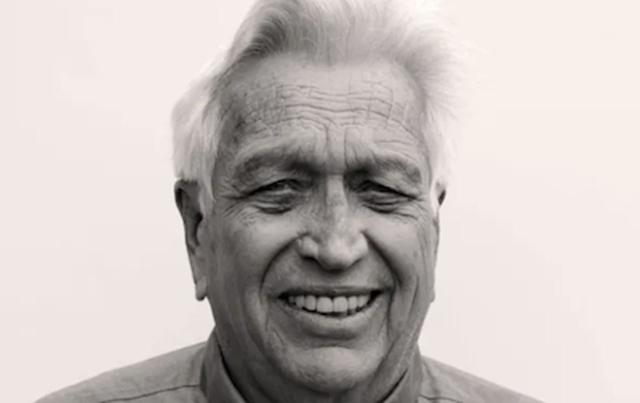chin: (310, 337, 356, 357)
crows_feet: (222, 184, 248, 214), (407, 188, 425, 216)
forehead: (371, 91, 401, 134), (274, 112, 318, 128), (328, 101, 364, 120), (282, 96, 324, 112)
frown_line: (338, 135, 354, 169)
gummy_smile: (260, 235, 296, 277), (369, 231, 399, 277)
masseter: (406, 278, 426, 315)
sad_smile: (382, 293, 398, 335)
